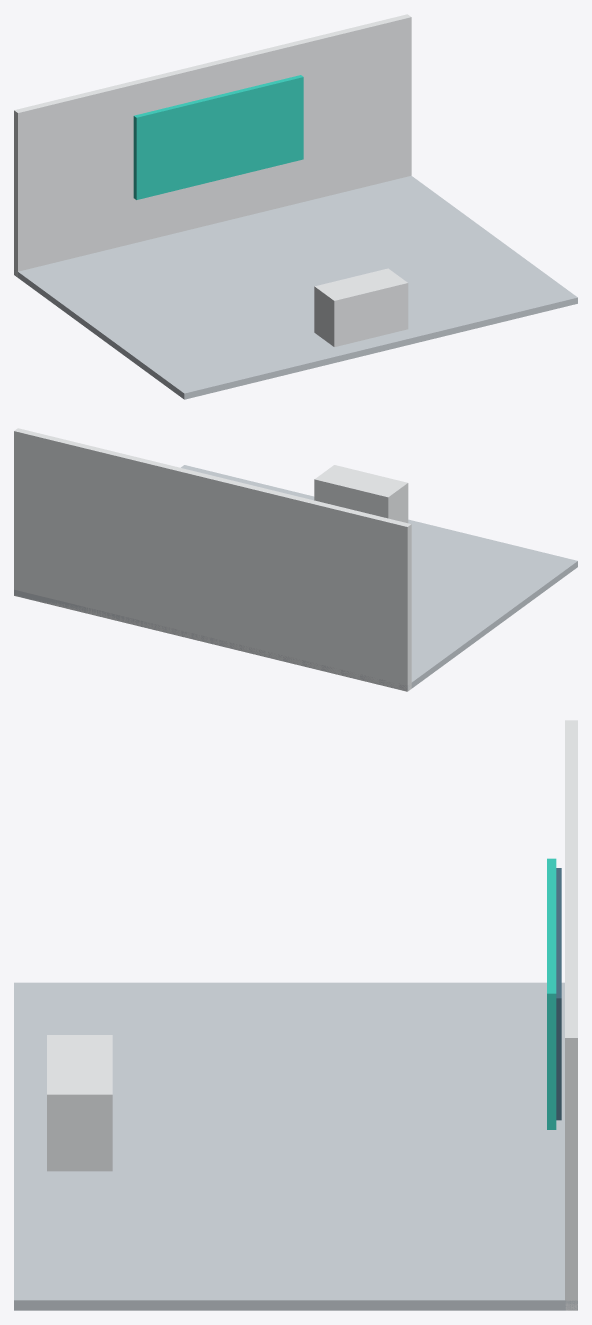
3 renders of one model, top to bottom at view 1: azimuth 30°, elevation 25°; view 2: azimuth 150°, elevation 25°; view 3: azimuth 270°, elevation 25°, orthographic. The views are drawn at different scales.
Visible parts, largest first — view 1: Exhibition Booth Concept; view 2: Exhibition Booth Concept; view 3: Exhibition Booth Concept.
Part boxes in pixels (left/top/right/bottom): Exhibition Booth Concept: left=14, top=14, right=577, bottom=399; Exhibition Booth Concept: left=14, top=428, right=577, bottom=691; Exhibition Booth Concept: left=14, top=720, right=577, bottom=1310.
Size of the model in its own units: 8 by 3.2 by 6.
